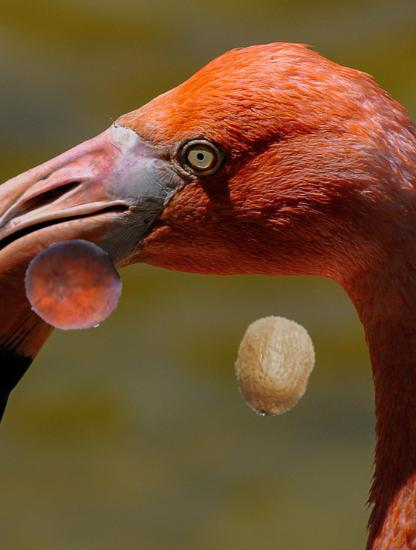Kiwi: (222, 314, 329, 421)
Nut: (25, 239, 120, 334)
